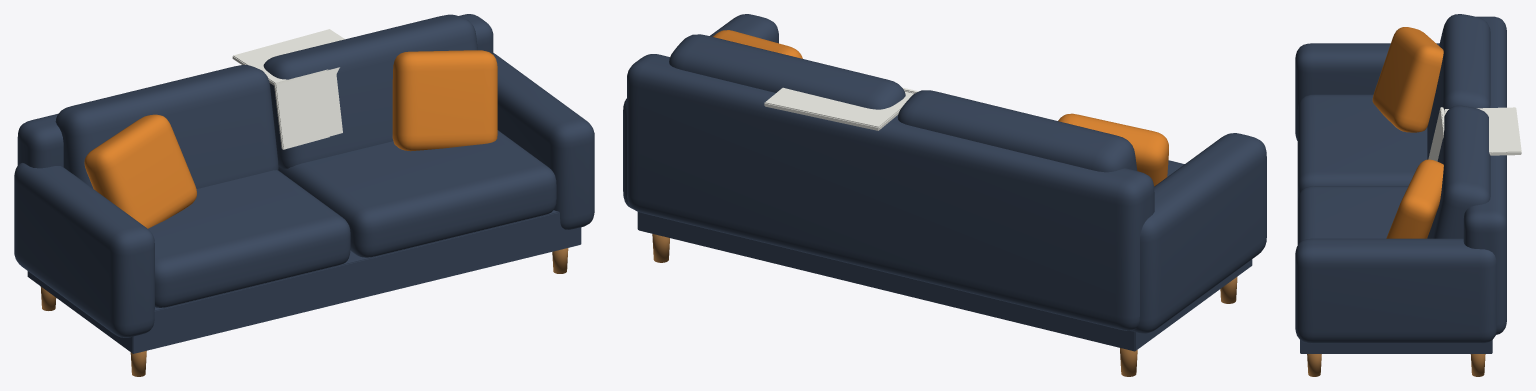
Rendered from decor_sofa.glb.
The picture shows the model from 3 angles, left to right: view 1: azimuth 30°, elevation 25°; view 2: azimuth 150°, elevation 25°; view 3: azimuth 270°, elevation 25°; orthographic projection. The views are drawn at different scales.
Visible parts, largest first — view 1: soft_fabric_4, soft_fabric_2, PC_Fabric, soft_fabric_6, soft_fabric_3, soft_fabric_5, soft_fabric2_10, soft_fabric_7, soft_fabric2_9, PC_Paper, soft_fabric_8, PC_Oak; view 2: soft_fabric_8, soft_fabric_6, PC_Fabric, soft_fabric_3, soft_fabric_5, PC_Paper, soft_fabric2_9, soft_fabric_7, PC_Oak, soft_fabric2_10; view 3: soft_fabric_7, soft_fabric_2, soft_fabric_5, soft_fabric2_9, soft_fabric_4, soft_fabric_8, soft_fabric_3, soft_fabric_6, soft_fabric2_10, PC_Fabric, PC_Paper, PC_Oak.
Boxes of the visible parts, x1,y1,x2,y2 form: soft_fabric_4: (278, 130, 556, 257); soft_fabric_2: (148, 170, 350, 307); PC_Fabric: (27, 210, 581, 353); soft_fabric_6: (14, 163, 154, 337); soft_fabric_3: (55, 65, 278, 188); soft_fabric_5: (263, 14, 477, 168); soft_fabric2_10: (392, 50, 497, 151); soft_fabric_7: (493, 53, 594, 229); soft_fabric2_9: (84, 114, 196, 228); PC_Paper: (232, 29, 344, 149); soft_fabric_8: (17, 14, 493, 168); PC_Oak: (40, 248, 568, 376); soft_fabric_8: (627, 54, 1154, 330); soft_fabric_6: (1130, 133, 1266, 333); PC_Fabric: (637, 212, 1252, 351); soft_fabric_3: (897, 90, 1137, 172); soft_fabric_5: (669, 34, 905, 109); PC_Paper: (764, 87, 918, 130); soft_fabric2_9: (1058, 113, 1168, 186); soft_fabric_7: (623, 14, 778, 208); PC_Oak: (652, 234, 1237, 376); soft_fabric2_10: (713, 30, 802, 58); soft_fabric_7: (1295, 238, 1496, 343); soft_fabric_2: (1297, 94, 1427, 200); soft_fabric_5: (1427, 105, 1490, 238); soft_fabric2_9: (1372, 27, 1443, 132); soft_fabric_4: (1297, 186, 1408, 244); soft_fabric_8: (1463, 16, 1506, 334); soft_fabric_3: (1427, 14, 1490, 159); soft_fabric_6: (1295, 43, 1439, 140); soft_fabric2_10: (1386, 159, 1443, 238); PC_Fabric: (1300, 340, 1492, 353); PC_Paper: (1428, 107, 1521, 161); PC_Oak: (1307, 354, 1485, 376).
Size of the model in its own units: 2.1 by 0.832 by 0.9412.
